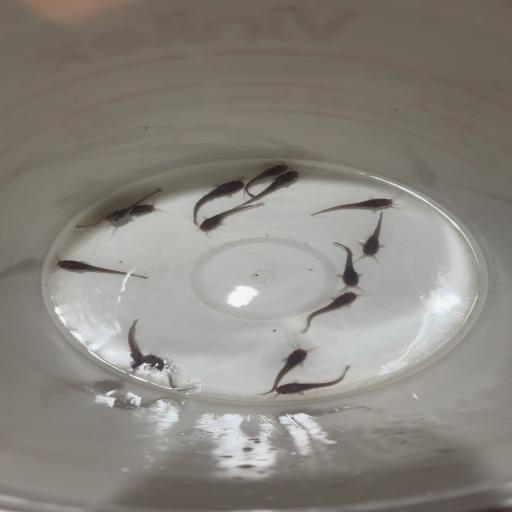lele: (294, 290, 364, 337), (258, 346, 318, 398), (270, 364, 352, 402), (187, 179, 247, 228), (46, 253, 151, 280), (306, 192, 408, 219), (237, 170, 304, 210), (193, 202, 269, 236), (146, 352, 205, 392), (106, 186, 164, 226), (323, 241, 370, 290), (76, 202, 162, 228), (358, 210, 395, 260), (244, 161, 288, 198), (118, 318, 150, 368)
